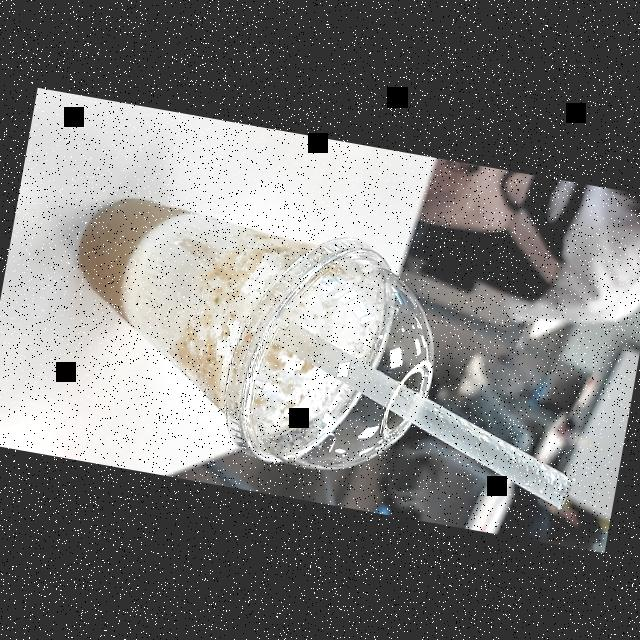plastic_cup: (42, 186, 459, 494)
plastic_cup_lid: (208, 220, 454, 497)
straw: (254, 306, 604, 512)
